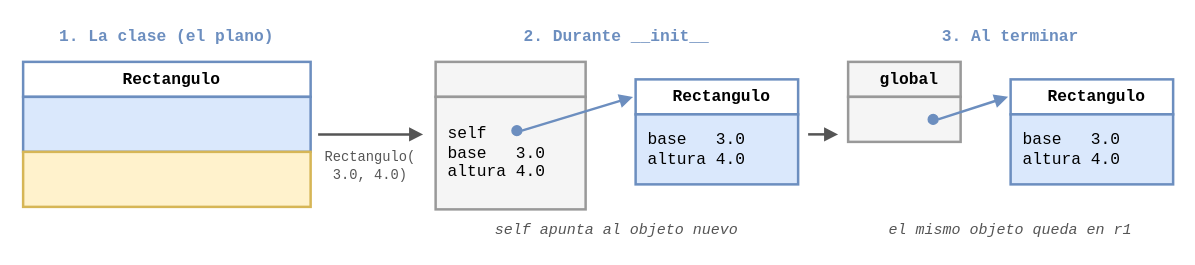
Image size: 1195x265. Some labels were removed from this diagram. The shapes that lost their labels are listed below. From the top down, each one's centre as x and y in pixels, then its label:
At (510,79): "__init__".
At (166,123): "+ base : float + altura : float".
At (903,118): "r1".
At (166,179): "+ calcular_area() + calcular_perimetro()".
